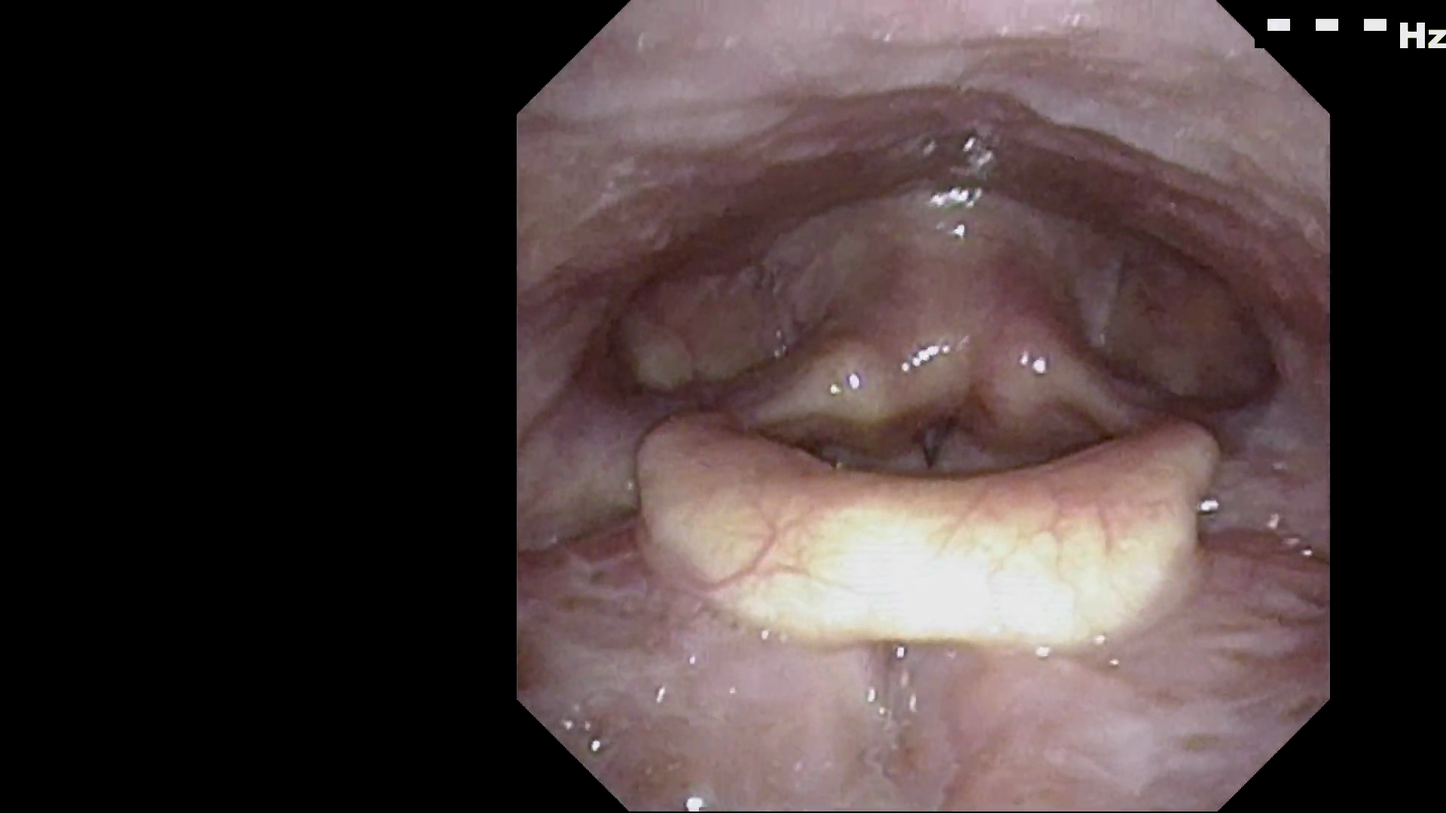epiglottis: (653, 401, 1222, 660)
trachea: (883, 386, 983, 503)
